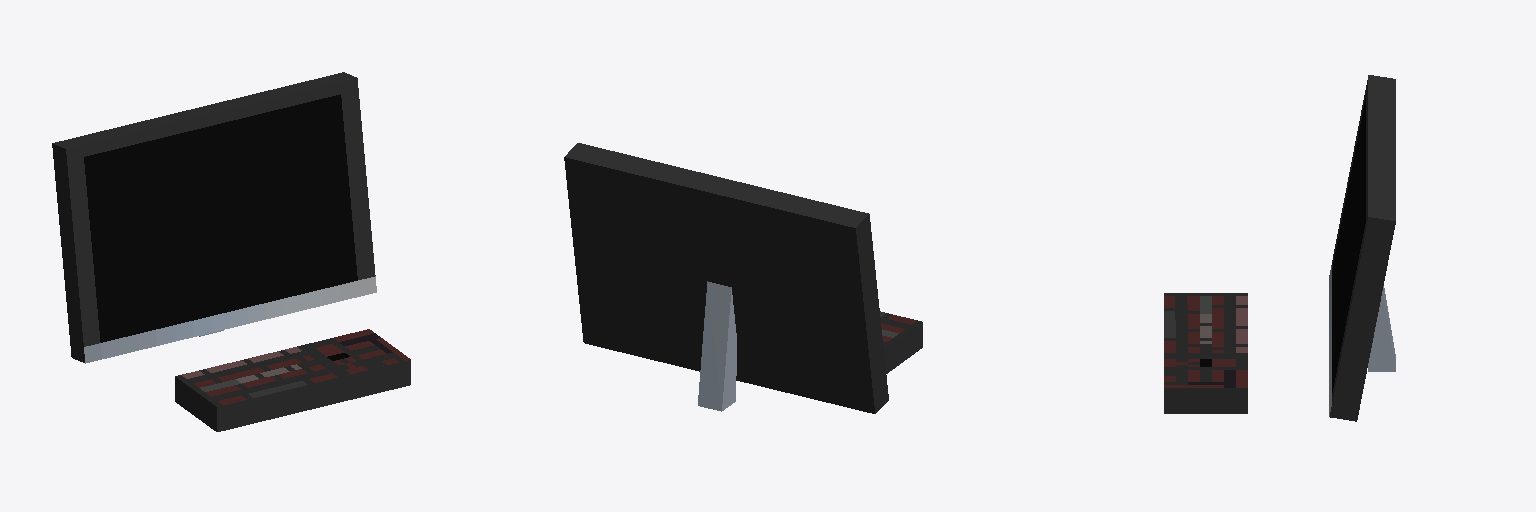
The picture shows the model from 3 angles: view 1: azimuth 30°, elevation 25°; view 2: azimuth 150°, elevation 25°; view 3: azimuth 270°, elevation 25°; orthographic projection.
Parts seen in each view (by area): view 1: Cube.001, Cube; view 2: Cube.001, Cube.002, Cube; view 3: Cube.001, Cube, Cube.002.
Boxes of the visible parts, x1,y1,x2,y2 form: Cube.001: [52, 72, 376, 363]; Cube: [175, 329, 410, 431]; Cube.001: [564, 143, 888, 413]; Cube.002: [698, 281, 736, 411]; Cube: [880, 311, 922, 373]; Cube.001: [1329, 75, 1395, 421]; Cube: [1164, 293, 1247, 413]; Cube.002: [1368, 286, 1395, 371].
Size of the model in its own units: 0.6 by 0.4333 by 0.415.
Materials: 5 (5 with a texture image).